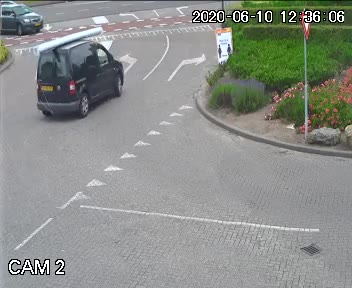car: (32, 31, 137, 118), (0, 3, 44, 35)
